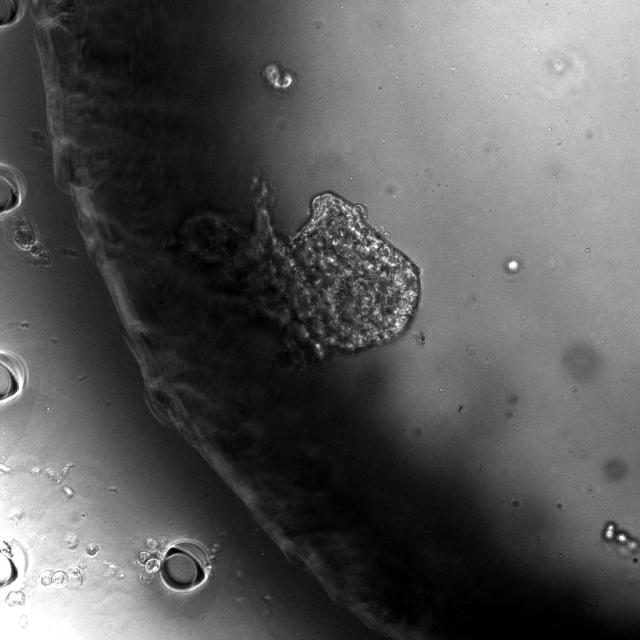organoid: (181, 185, 420, 359), (602, 521, 639, 554), (261, 62, 296, 93), (501, 254, 524, 279)
